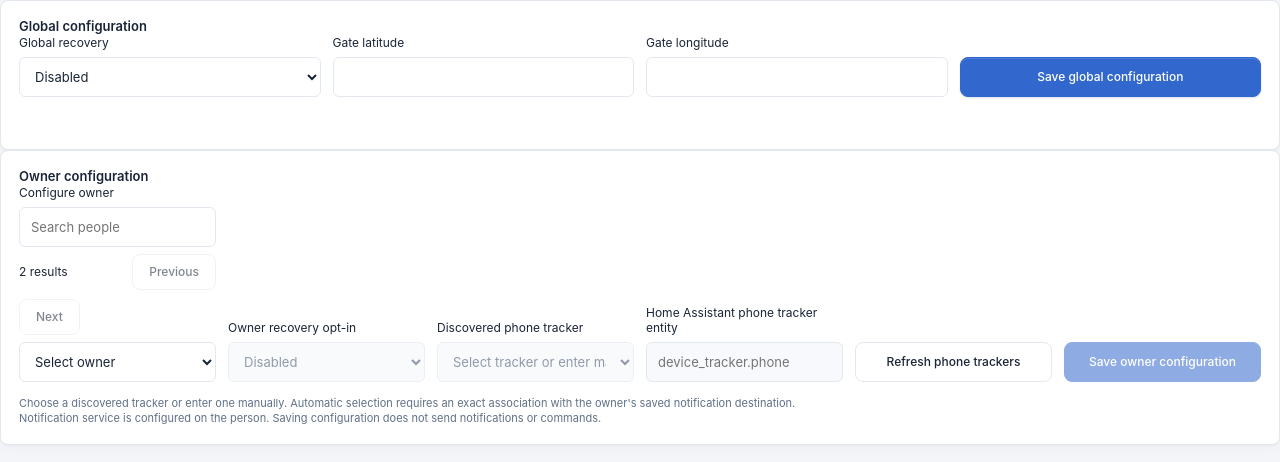
Scenario: offers the exact matched tracker without saving or enabling recovery
This screenshot has width=1280, height=462.
Select "Synthetic A" in the dropdown named "Configure owner" at (118, 362), box [19, 342, 216, 382]
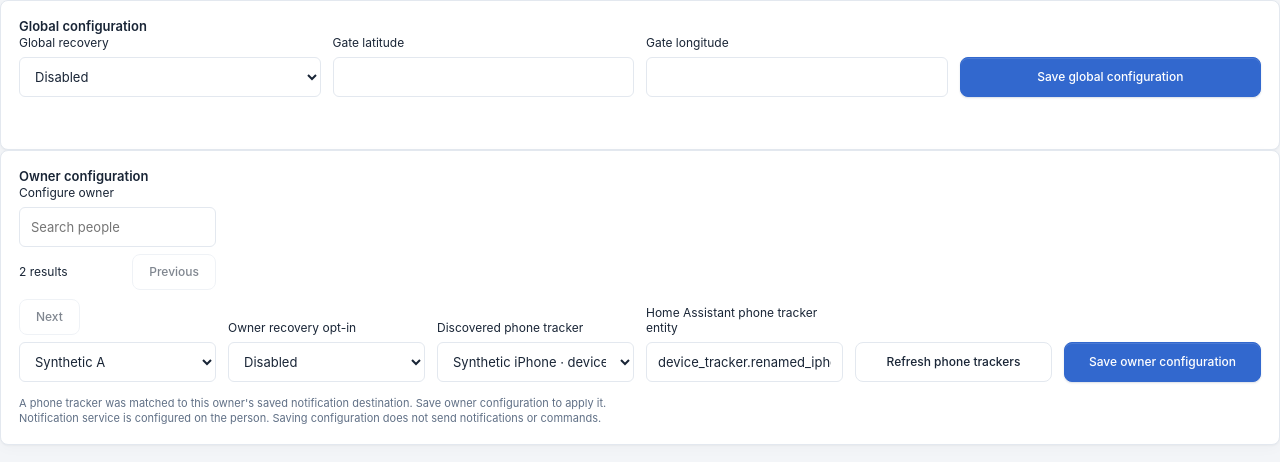
Expected: the dropdown labelled "Owner recovery opt-in" shows "Disabled", [228, 342, 425, 382]
Expected: the field labelled "Home Assistant phone tracker entity" holds "device_tracker.renamed_iphone", [646, 342, 843, 382]
Expected: the text "matched to this owner's saved notification destination" is shown, [19, 396, 606, 410]
